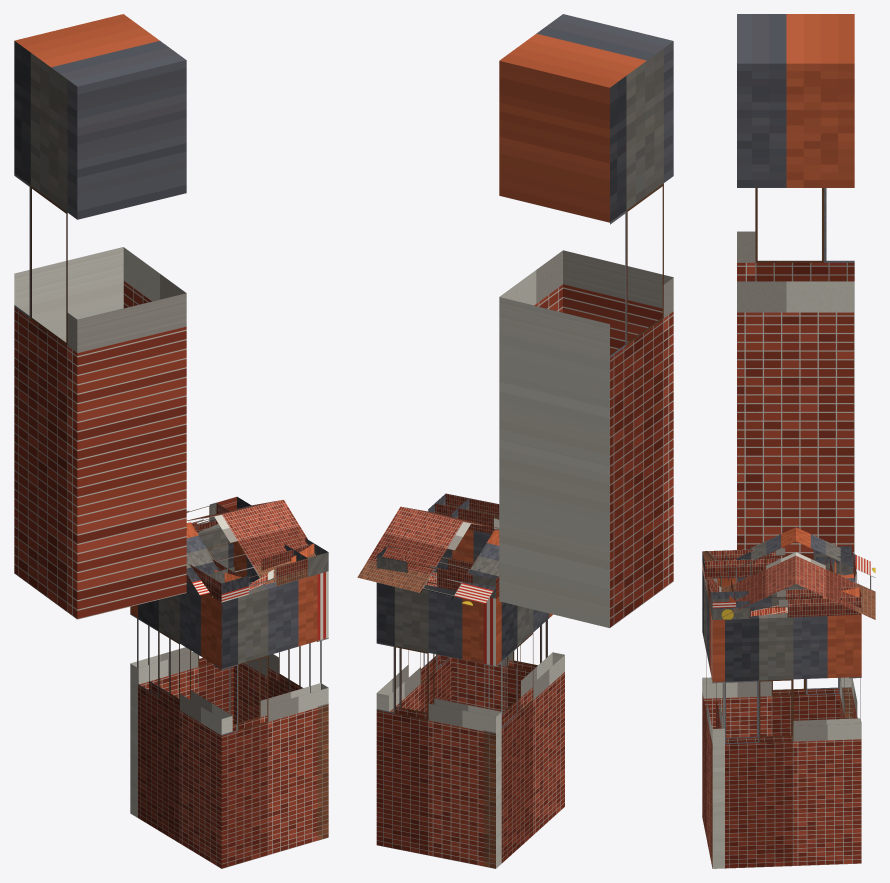
3 renders of one model, left to right at view 1: azimuth 30°, elevation 25°; view 2: azimuth 150°, elevation 25°; view 3: azimuth 270°, elevation 25°, orthographic. The views are drawn at different scales.
Visible parts, largest first — view 1: 1148845027__chimney_0_xb, 1148845027__wall_1_xb, 1148845027__wall_0_xb, 1148845027__wall_3_xb, 1148845027__wall_2_xb, 1148845027_roof_-1_xb, 1148845027__cornice_1, 1148845027__cornice_2, 1148845027__cornice_0; view 2: 1148845027__chimney_0_xb, 1148845027__wall_3_xb, 1148845027__wall_0_xb, 1148845027_roof_1_xb, 1148845027__wall_1_xb, 1148845027__wall_2_xb, 1148845027__cornice_3, 1148845027__cornice_1; view 3: 1148845027__chimney_0_xb, 1148845027__wall_2_xb, 1148845027__wall_0_xb, 1148845027__wall_1_xb, 1148845027_roof_1_xb, 1148845027__cornice_2, 1148845027_roof_-1_xb, 1148845027__cornice_0, 1148845027__cornice_1, 1148845027__wall_3_xb.
Boxes of the visible parts, x1,y1,x2,y2 form: 1148845027__chimney_0_xb: (14, 14, 186, 619); 1148845027__wall_1_xb: (214, 574, 328, 868); 1148845027__wall_0_xb: (130, 581, 232, 868); 1148845027__wall_3_xb: (130, 523, 233, 817); 1148845027__wall_2_xb: (233, 541, 328, 840); 1148845027_roof_-1_xb: (186, 499, 315, 597); 1148845027__cornice_1: (207, 543, 314, 602); 1148845027__cornice_2: (216, 496, 328, 576); 1148845027__cornice_0: (186, 559, 241, 602); 1148845027__chimney_0_xb: (499, 14, 673, 628); 1148845027__wall_3_xb: (376, 582, 501, 868); 1148845027__wall_0_xb: (483, 597, 564, 868); 1148845027_roof_1_xb: (357, 506, 499, 605); 1148845027__wall_1_xb: (440, 529, 547, 713); 1148845027__wall_2_xb: (376, 549, 452, 712); 1148845027__cornice_3: (376, 546, 499, 598); 1148845027__cornice_1: (435, 493, 499, 533); 1148845027__chimney_0_xb: (737, 14, 854, 559); 1148845027__wall_2_xb: (711, 613, 861, 868); 1148845027__wall_0_xb: (702, 577, 852, 737); 1148845027__wall_1_xb: (702, 569, 724, 868); 1148845027_roof_1_xb: (796, 527, 875, 619); 1148845027__cornice_2: (710, 587, 861, 619); 1148845027_roof_-1_xb: (716, 527, 795, 618); 1148845027__cornice_0: (704, 546, 853, 578); 1148845027__cornice_1: (702, 551, 735, 619); 1148845027__wall_3_xb: (839, 573, 861, 718).
Bounding box in the file's own units: 0.3272 × 1.05 × 0.2207.
Materials: 1 (1 with a texture image).
